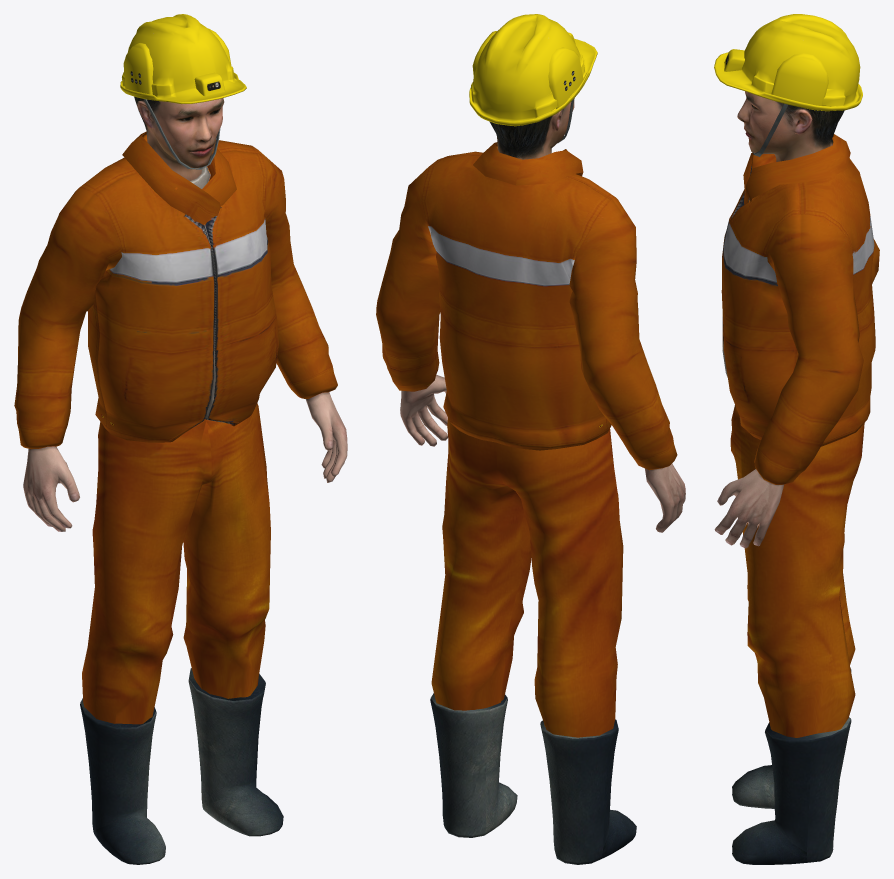
The model's file is staff.obj.
The picture shows the model from 3 angles, left to right: view 1: azimuth 30°, elevation 25°; view 2: azimuth 150°, elevation 25°; view 3: azimuth 270°, elevation 25°; orthographic projection.
Bounding box in the file's own units: 0.7276 × 1.89 × 0.353.
